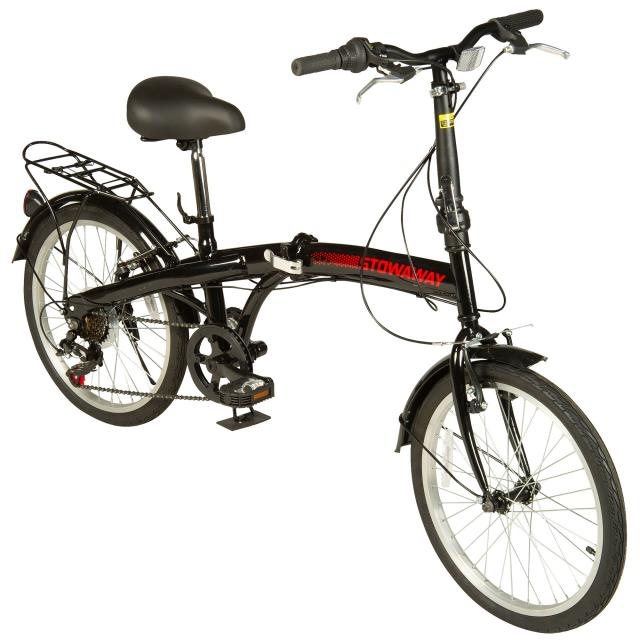folding-bike: (19, 6, 630, 634)
